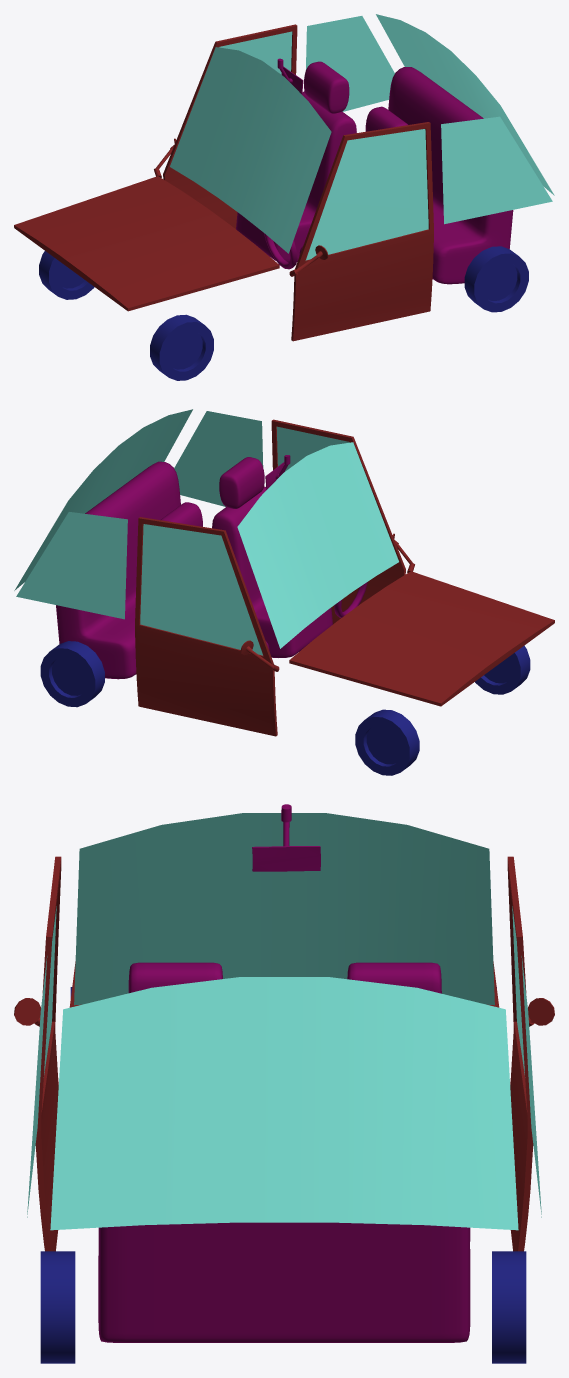
File: cocheuvs5.fbx
3 renders of one model, top to bottom at view 1: azimuth 30°, elevation 25°; view 2: azimuth 150°, elevation 25°; view 3: azimuth 270°, elevation 25°, orthographic. The views are drawn at different scales.
Visible parts, largest first — view 1: capo002, parabrisas001, Puerta005, ventana004, sm_Cochegordo, ventana, Box014, ventanas_traseras001, Cylinder017, Cylinder018, Box015, Box016 (+4 smaller); view 2: sm_Cochegordo, capo002, parabrisas001, Box014, ventana, ventanas_traseras001, Box017, Cylinder016, Cylinder014, Puerta005, Box018, Cylinder018 (+3 smaller); view 3: ventanas_traseras001, parabrisas001, Box014, sm_Cochegordo, Puerta005, Cylinder017, Cylinder014, Box016, Box018, Line009, Line007, ventana.
Part boxes in pixels (box(x1,y1,x2,y2)): capo002: box(14, 176, 279, 311); parabrisas001: box(170, 47, 331, 253); Puerta005: box(291, 122, 433, 341); ventana004: box(305, 129, 428, 260); sm_Cochegordo: box(163, 16, 394, 228); ventana: box(441, 116, 552, 224); Box014: box(388, 67, 513, 284); ventanas_traseras001: box(376, 14, 554, 195); Cylinder017: box(464, 246, 528, 312); Cylinder018: box(150, 314, 213, 380); Box015: box(236, 91, 356, 262); Box016: box(304, 61, 349, 113); sm_Cochegordo: box(16, 512, 277, 736); capo002: box(289, 571, 554, 706); parabrisas001: box(237, 442, 398, 648); Box014: box(56, 461, 180, 679); ventana: box(174, 411, 263, 506); ventanas_traseras001: box(14, 409, 192, 590); Box017: box(212, 486, 332, 657); Cylinder016: box(355, 709, 419, 775); Cylinder014: box(40, 641, 104, 707); Puerta005: box(271, 419, 405, 624); Box018: box(219, 457, 264, 508); Cylinder018: box(475, 645, 530, 694); ventanas_traseras001: box(50, 977, 518, 1230); parabrisas001: box(74, 813, 494, 1005); Box014: box(98, 1222, 470, 1342); sm_Cochegordo: box(507, 856, 541, 1251); Puerta005: box(35, 856, 61, 1251); Cylinder017: box(40, 1251, 75, 1363); Cylinder014: box(492, 1251, 526, 1363); Box016: box(347, 962, 441, 993); Box018: box(128, 962, 222, 993); Line009: box(252, 804, 320, 871); Line007: box(14, 998, 554, 1026); ventana: box(27, 956, 47, 1217).
Bounding box in the file's own units: 415 × 226 × 263.
